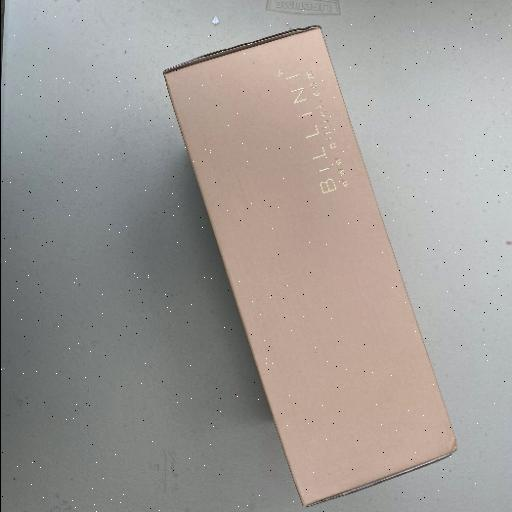Cardboard: (161, 24, 458, 508)
